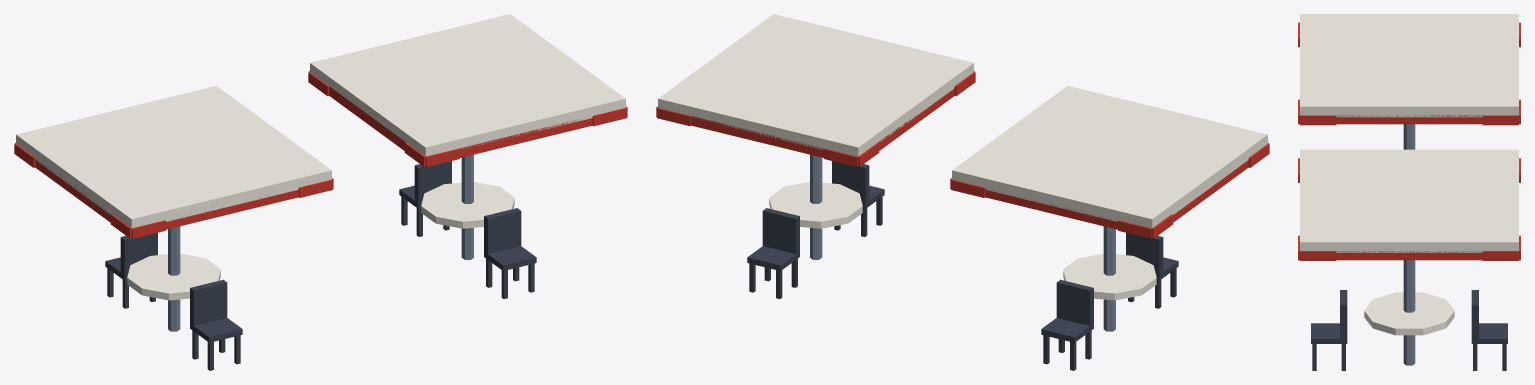
File: cittaDehors.glb
The picture shows the model from 3 angles, left to right: view 1: azimuth 30°, elevation 25°; view 2: azimuth 150°, elevation 25°; view 3: azimuth 270°, elevation 25°; orthographic projection. The views are drawn at different scales.
Visible parts, largest first — view 1: cittaDehors_white, cittaDehors_steelDark, cittaDehors_red, cittaDehors_steel; view 2: cittaDehors_white, cittaDehors_steelDark, cittaDehors_red, cittaDehors_steel; view 3: cittaDehors_white, cittaDehors_red, cittaDehors_steelDark, cittaDehors_steel.
Boxes of the visible parts, x1=… form: cittaDehors_white: x1=16, y1=14, x2=625, y2=300; cittaDehors_steelDark: x1=105, y1=161, x2=536, y2=370; cittaDehors_red: x1=14, y1=71, x2=627, y2=238; cittaDehors_steel: x1=168, y1=154, x2=473, y2=331; cittaDehors_white: x1=658, y1=14, x2=1267, y2=300; cittaDehors_steelDark: x1=747, y1=161, x2=1178, y2=370; cittaDehors_red: x1=656, y1=71, x2=1269, y2=238; cittaDehors_steel: x1=810, y1=154, x2=1115, y2=331; cittaDehors_white: x1=1300, y1=14, x2=1518, y2=335; cittaDehors_red: x1=1298, y1=22, x2=1520, y2=260; cittaDehors_steelDark: x1=1311, y1=290, x2=1507, y2=370; cittaDehors_steel: x1=1403, y1=124, x2=1415, y2=365.
Size of the model in its own units: 7.45 by 2.53 by 3.05.
